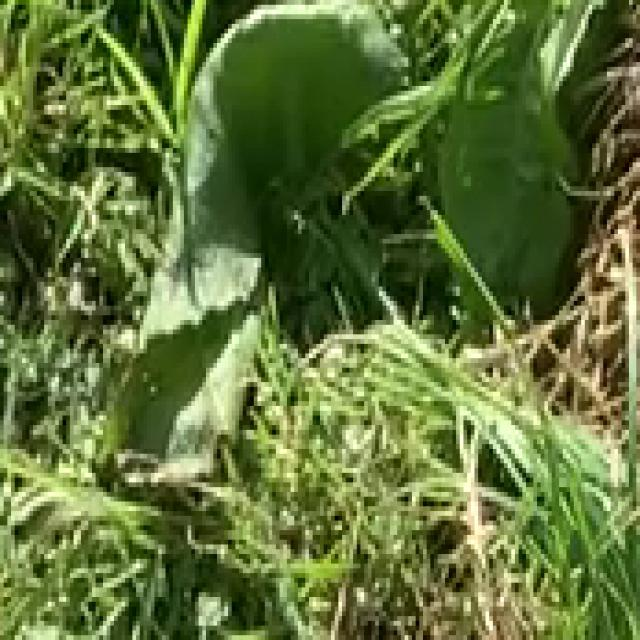organic waste: (118, 0, 607, 626)
